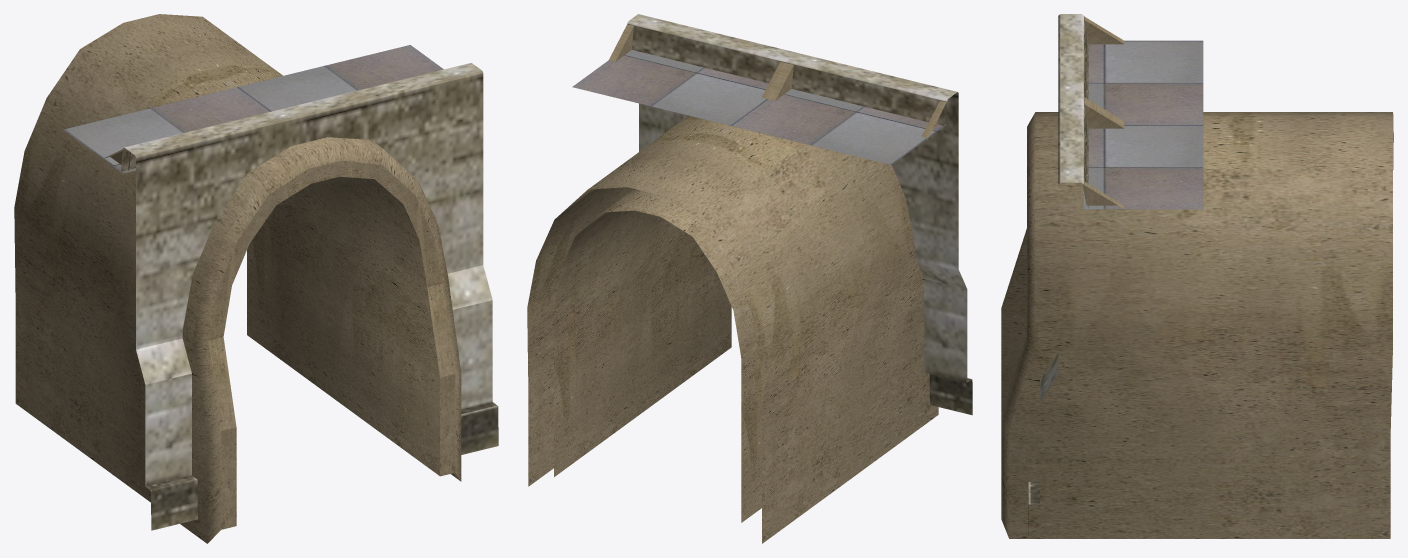
The model's file is castle_gate_big.fbx.
The picture shows the model from 3 angles, left to right: view 1: azimuth 30°, elevation 25°; view 2: azimuth 150°, elevation 25°; view 3: azimuth 270°, elevation 25°; orthographic projection. The views are drawn at different scales.
Parts seen in each view (by area): view 1: pasted__caslte-wall-w-gate-big; view 2: pasted__caslte-wall-w-gate-big; view 3: pasted__caslte-wall-w-gate-big.
Part boxes in pixels (x1,y1,x2,y2): pasted__caslte-wall-w-gate-big: (14,14,498,543); pasted__caslte-wall-w-gate-big: (527,14,972,543); pasted__caslte-wall-w-gate-big: (1001,14,1393,538).
Size of the model in its own units: 400 by 419 by 393.
3 materials, 3 textured.
